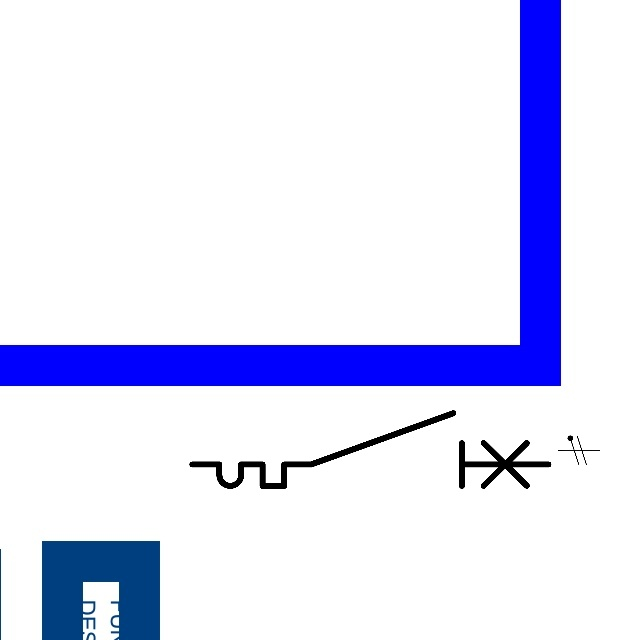interruptor_termomagnetico: (183, 404, 557, 495)
